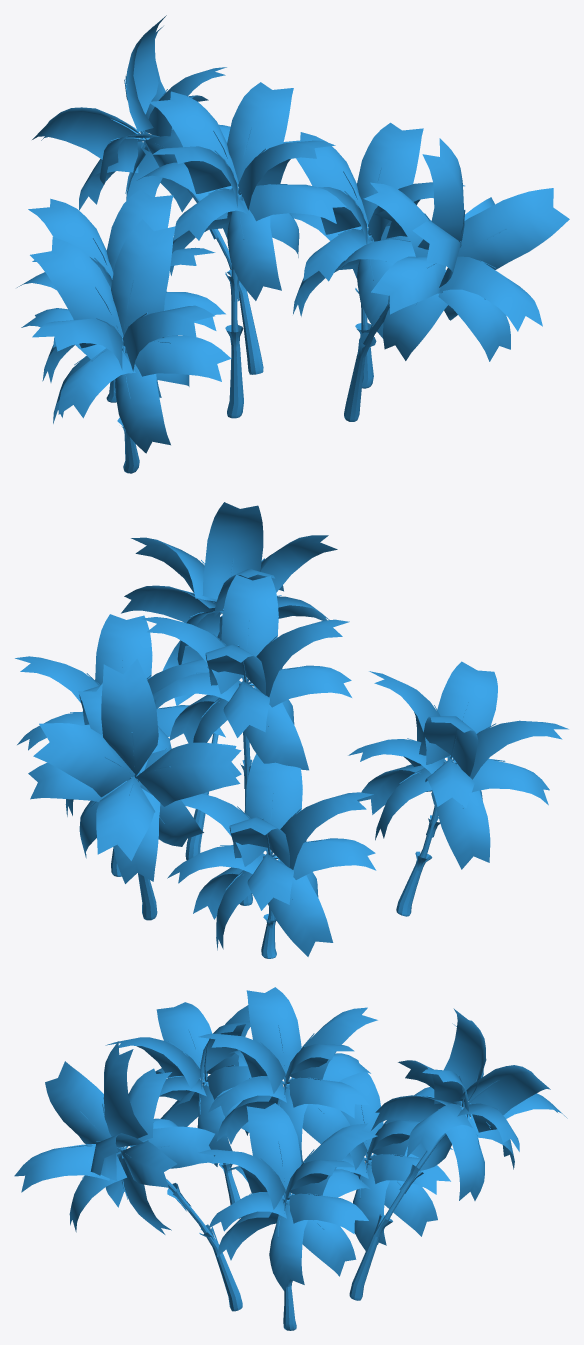
Rendered from Palm_Grp_01.fbx.
3 renders of one model, top to bottom at view 1: azimuth 30°, elevation 25°; view 2: azimuth 150°, elevation 25°; view 3: azimuth 270°, elevation 25°, orthographic. The views are drawn at different scales.
Parts seen in each view (by area): view 1: Palm_Grp_01; view 2: Palm_Grp_01; view 3: Palm_Grp_01.
Boxes of the visible parts, left/top/right/bottom form: Palm_Grp_01: left=17, top=15, right=569, bottom=473; Palm_Grp_01: left=15, top=502, right=568, bottom=958; Palm_Grp_01: left=14, top=987, right=567, bottom=1330.
Bounding box in the file's own units: 698 × 436 × 804.
